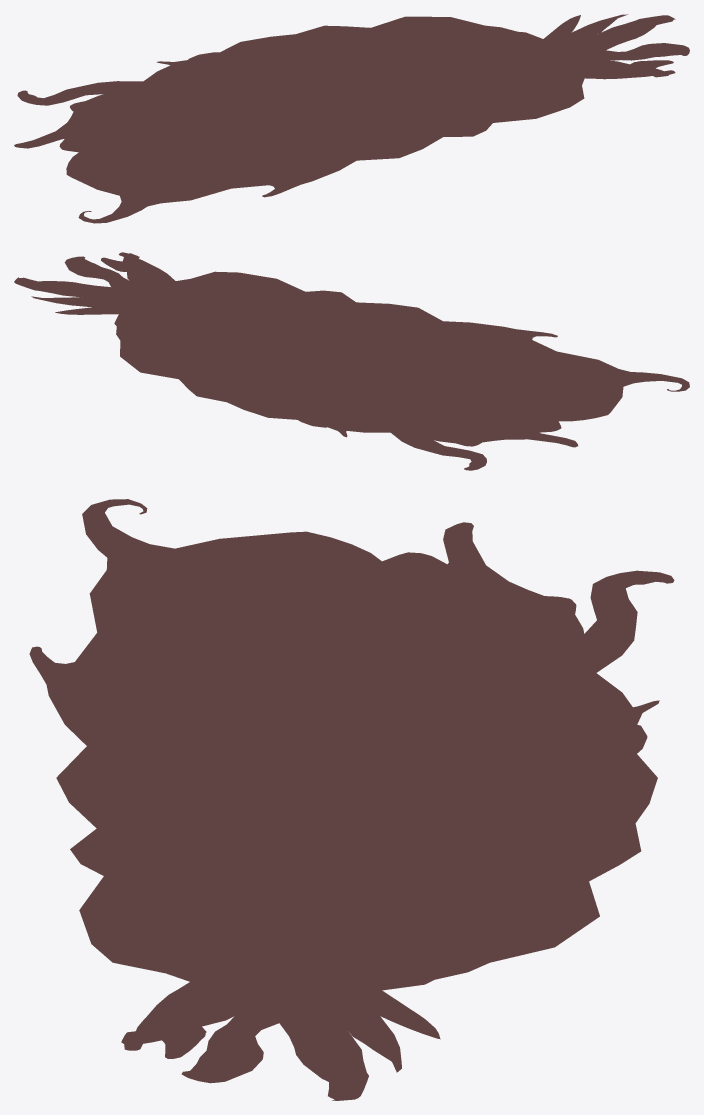
File: avatar3.fbx
3 renders of one model, top to bottom at view 1: azimuth 30°, elevation 25°; view 2: azimuth 150°, elevation 25°; view 3: azimuth 270°, elevation 25°, orthographic. The views are drawn at different scales.
Visible parts, largest first — view 1: pPlane2; view 2: pPlane2; view 3: pPlane2.
Part boxes in pixels (box(x1,y1,x2,y2)): pPlane2: box(14, 14, 689, 223); pPlane2: box(14, 252, 689, 470); pPlane2: box(29, 499, 674, 1100).
Bounding box in the file's own units: 7.82 × 0.000952 × 3.54.
